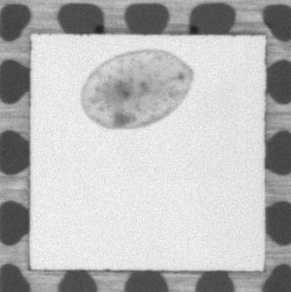DIE_INK: (74, 47, 197, 129)
